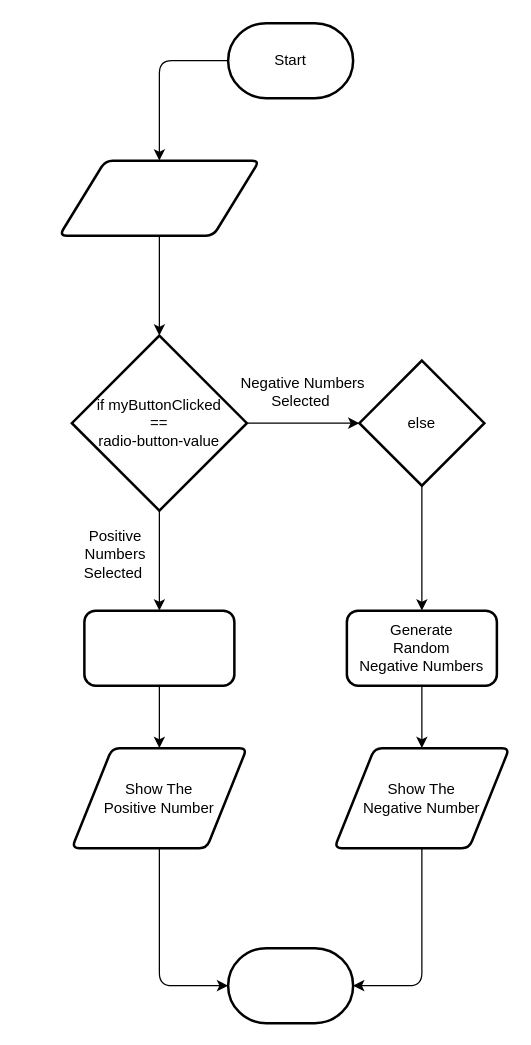
Some shapes in this 531 by 1045 pixel diagram are drawn without their labels. The box of each missing label's shape, as (x1, y1, x2, y2) in pixels:
Generate Random Positive Numbers: (82, 609, 235, 686)
Selection Buttons ( Positive or Negative ): (58, 159, 260, 236)
Stop: (226, 946, 354, 1024)
